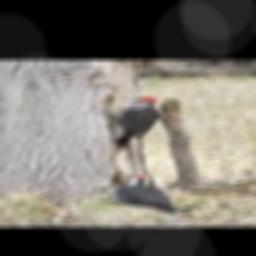Woodpecker: (92, 97, 161, 152), (98, 176, 173, 210)
